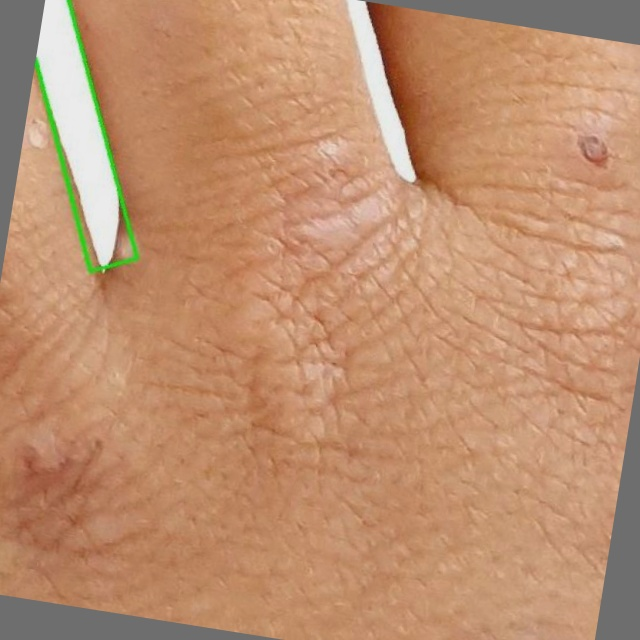Scabies: (54, 0, 138, 271)
